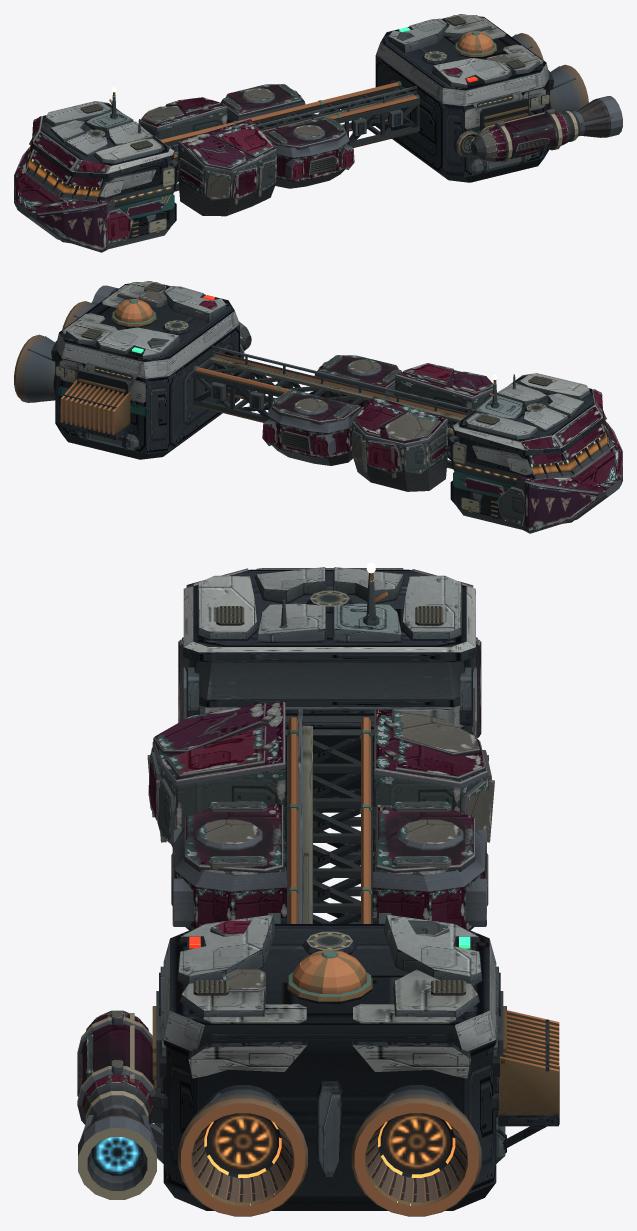
Rendered from ironjaw.glb.
3 views of the same model, one above another, from view 1: azimuth 30°, elevation 25°; view 2: azimuth 150°, elevation 25°; view 3: azimuth 270°, elevation 25° (orthographic). The views are drawn at different scales.
Parts seen in each view (by area): view 1: hull plating, slab_port plating, booster_port plating, sponson_port plating, slab_starboard plating, sponson_starboard plating, engine_port plating, shield_generator plating; view 2: hull plating, slab_starboard plating, sponson_starboard plating, slab_port plating, engine_starboard plating, sponson_port plating, shield_generator plating, booster_port plating, engine_port plating; view 3: hull plating, booster_port plating, slab_port plating, sponson_starboard plating, engine_starboard plating, engine_port plating, sponson_port plating, slab_starboard plating, shield_generator plating.
Part boxes in pixels (x1,y1,x2,y2): hull plating: (14,14,553,252); slab_port plating: (178,119,276,216); booster_port plating: (471,96,622,162); sponson_port plating: (262,117,354,188); slab_starboard plating: (140,97,227,175); sponson_starboard plating: (220,84,305,129); engine_port plating: (550,64,588,112); shield_generator plating: (454,31,496,58); hull plating: (51,281,622,533); slab_starboard plating: (351,396,447,491); sponson_starboard plating: (262,390,362,465); slab_port plating: (395,363,493,422); engine_starboard plating: (14,334,55,402); sponson_port plating: (314,355,402,407); shield_generator plating: (111,299,156,327); booster_port plating: (92,285,251,350); engine_port plating: (62,301,95,329); hull plating: (152,567,559,1210); booster_port plating: (77,1010,163,1199); slab_port plating: (147,701,285,846); sponson_starboard plating: (372,801,488,930); engine_starboard plating: (351,1085,481,1216); engine_port plating: (178,1085,307,1216); sponson_port plating: (171,801,286,930); slab_starboard plating: (374,709,494,842); shield_generator plating: (287,950,372,1003).
Size of the model in its own units: 2.11 by 0.5039 by 0.8193.
2 materials, 2 textured.
